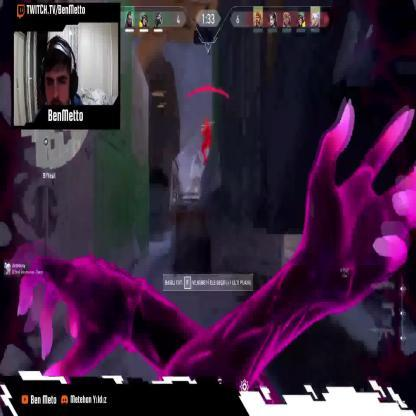enemy: (200, 118, 216, 165)
enemy_head: (204, 119, 209, 124)
